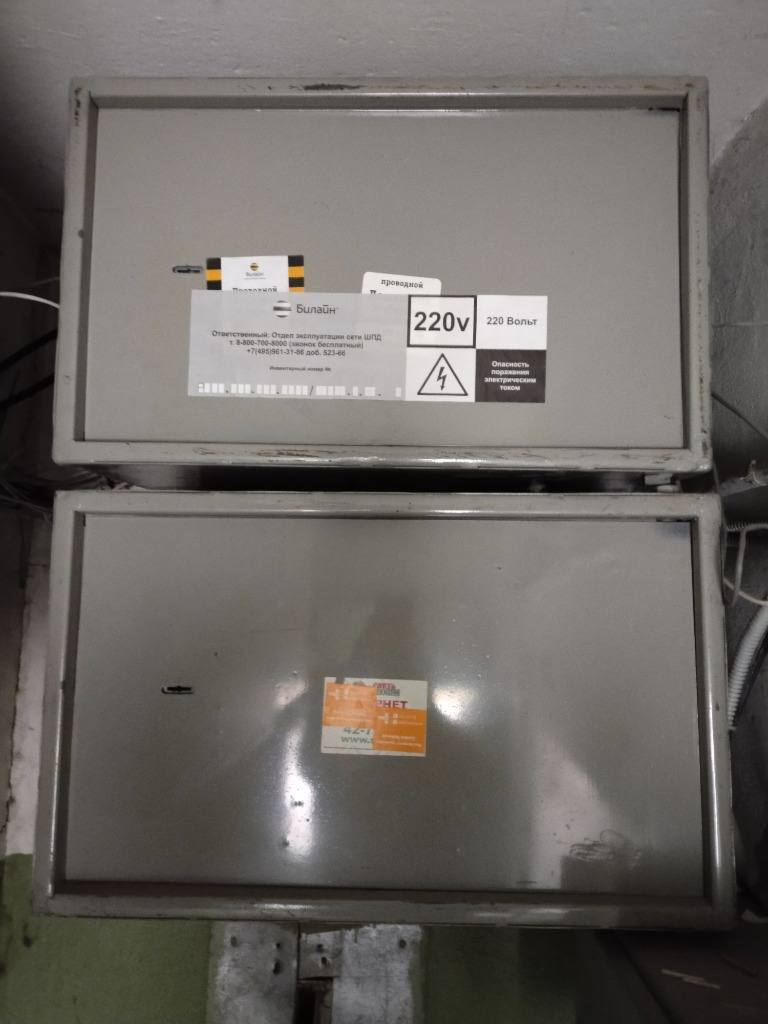e2-6u: (46, 70, 720, 472)
